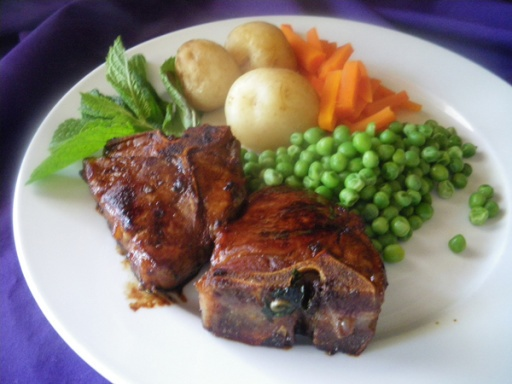background: (19, 11, 380, 213), (14, 11, 372, 151), (25, 26, 398, 136)
